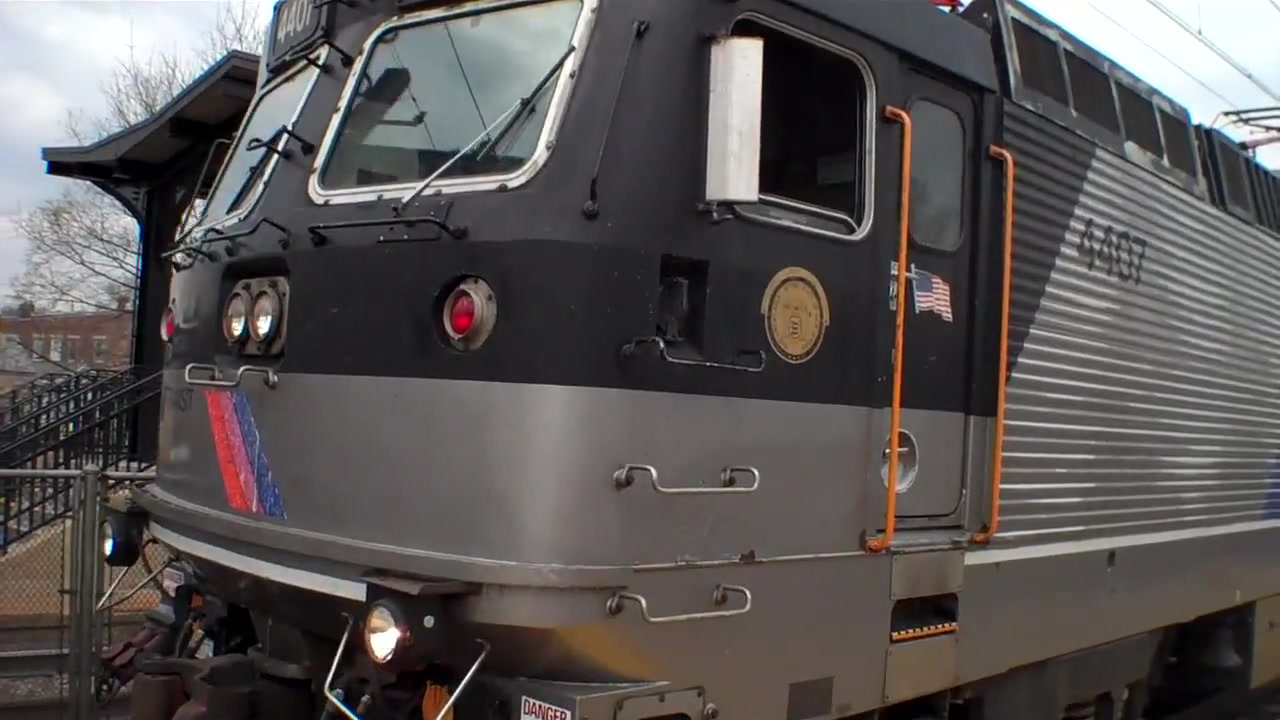train: (98, 1, 1280, 720)
